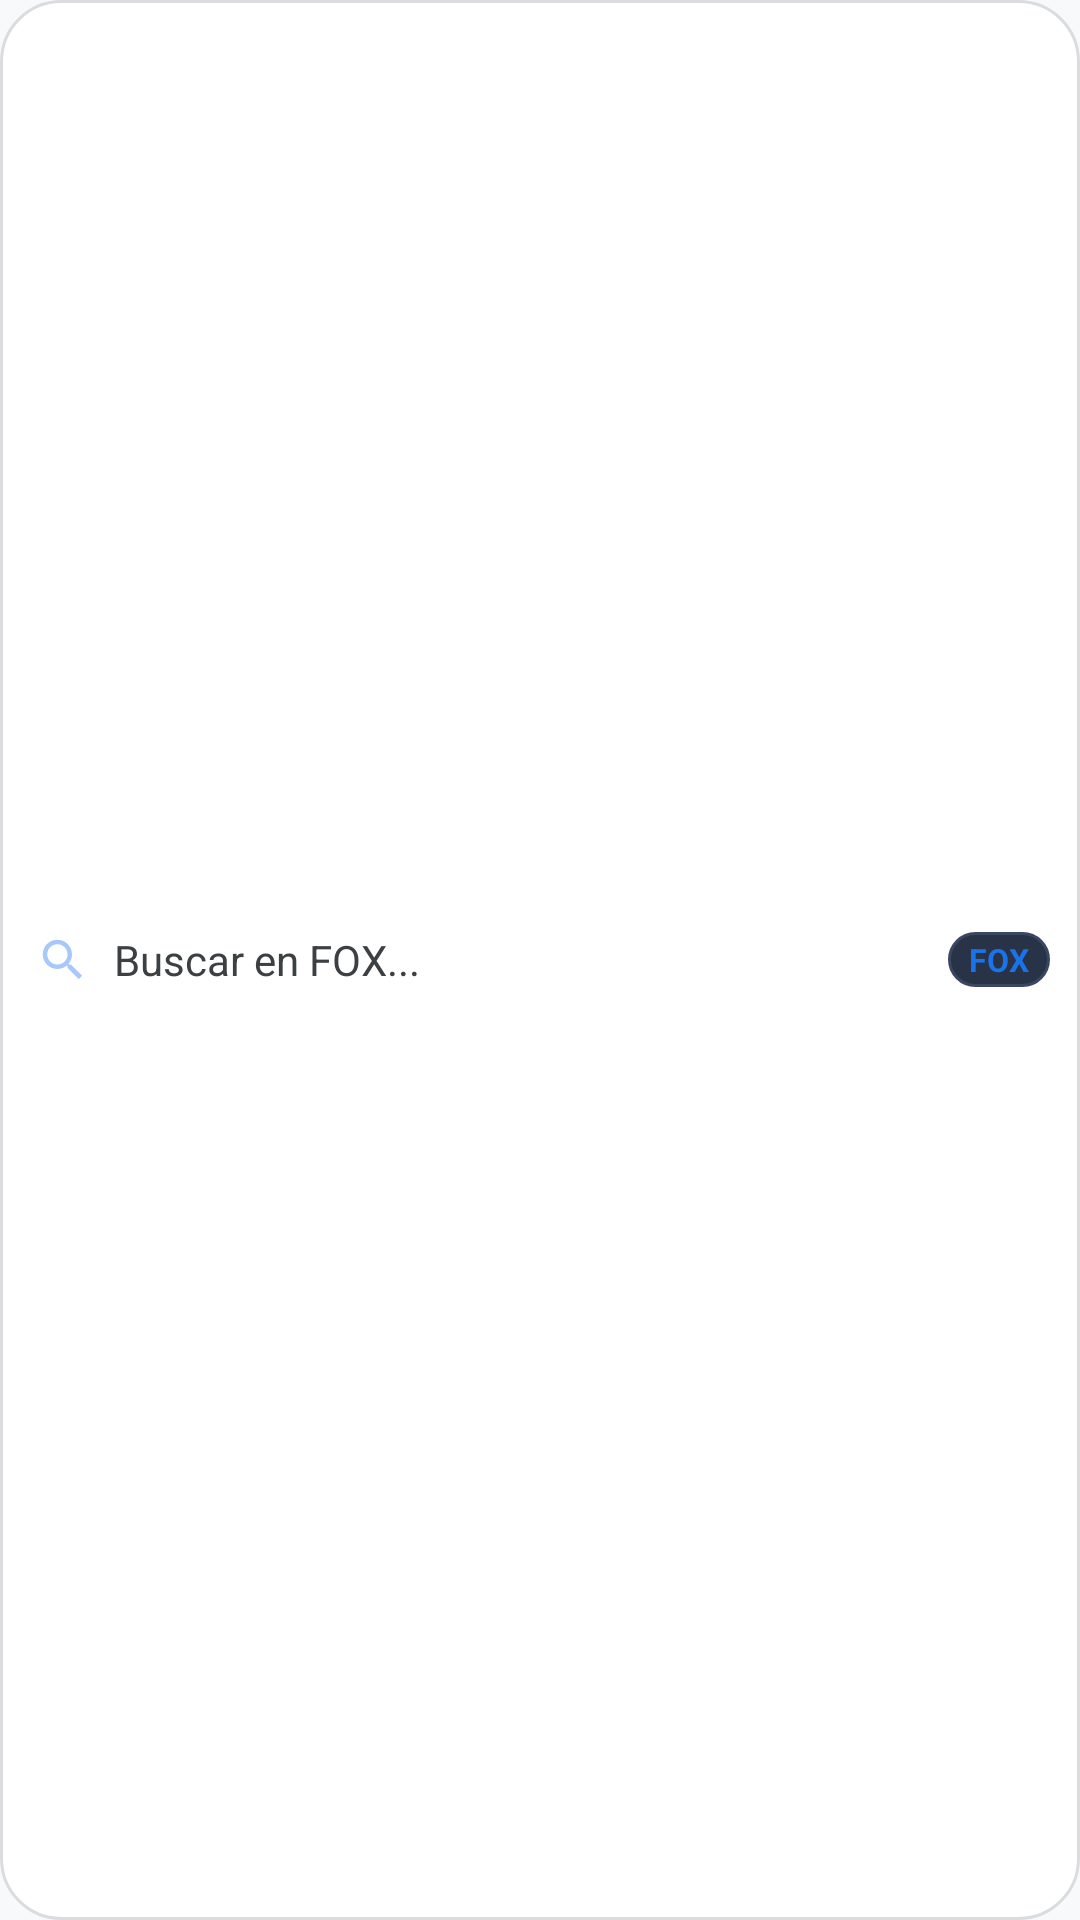

Screen size 1080w x 1920h. Icon name, then its box in pixels as (x1, y1, x2, y2):
search: (43, 940, 82, 979)
